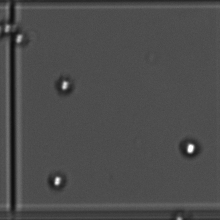Living Cell: (178, 135, 203, 159), (52, 73, 76, 96), (46, 168, 68, 192), (11, 28, 31, 49)
